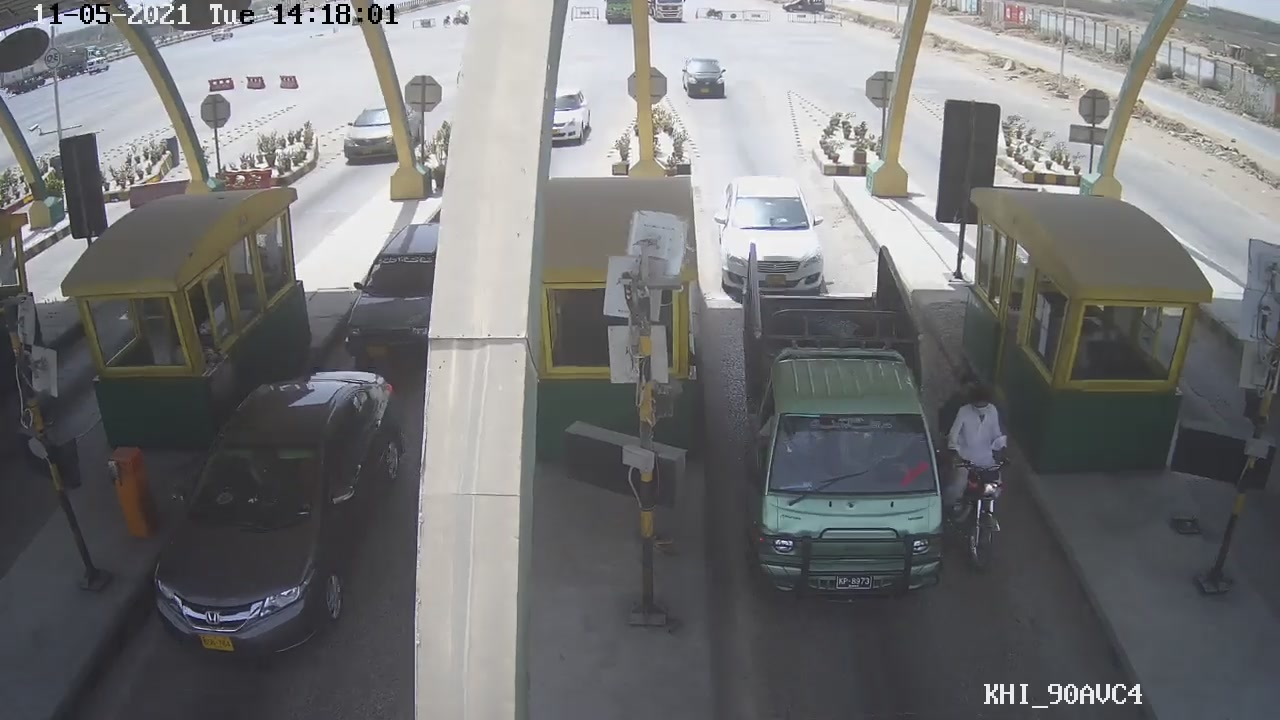F1: (732, 248, 945, 613)
